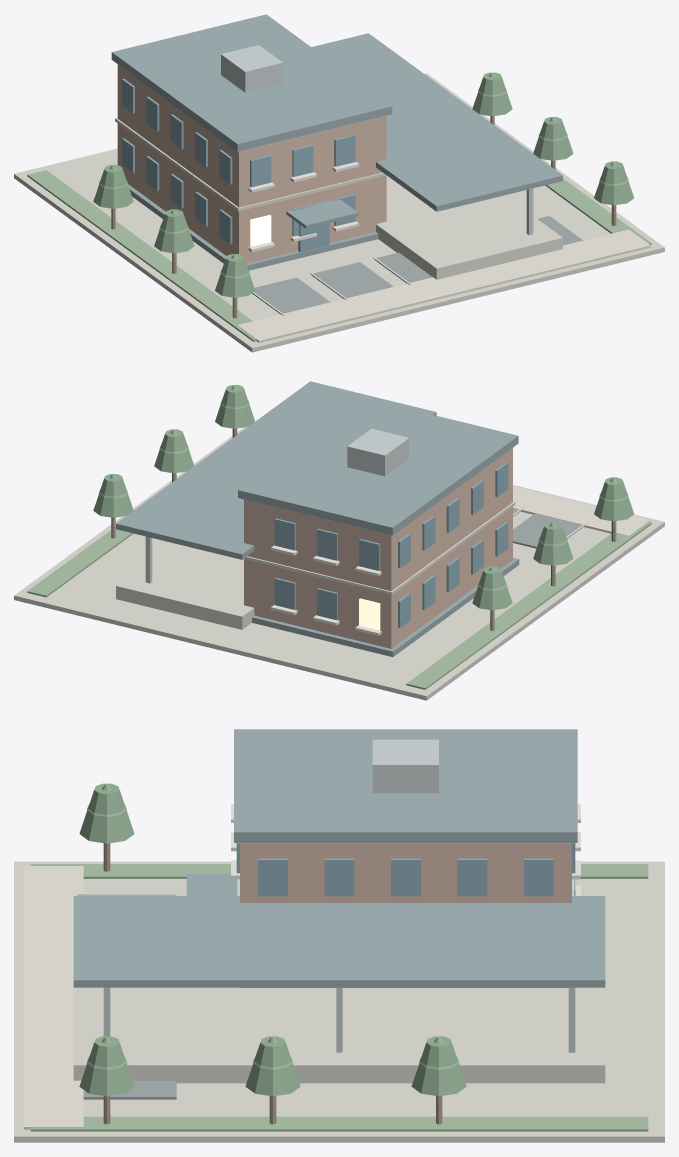
File: remaster_station.glb
3 renders of one model, top to bottom at view 1: azimuth 30°, elevation 25°; view 2: azimuth 150°, elevation 25°; view 3: azimuth 270°, elevation 25°, orthographic. The views are drawn at different scales.
Parts seen in each view (by area): view 1: remaster_station roof, remaster_station stone, remaster_station brick, remaster_station cream, remaster_station leaf, remaster_station glass, remaster_station green, remaster_station asphalt, remaster_station metal, remaster_station white, remaster_station warm, remaster_station bark; view 2: remaster_station roof, remaster_station stone, remaster_station brick, remaster_station leaf, remaster_station glass, remaster_station green, remaster_station metal, remaster_station cream, remaster_station asphalt, remaster_station white, remaster_station warm, remaster_station bark; view 3: remaster_station stone, remaster_station roof, remaster_station brick, remaster_station cream, remaster_station green, remaster_station leaf, remaster_station glass, remaster_station metal, remaster_station asphalt, remaster_station white, remaster_station bark.
Boxes of the visible parts, x1,y1,x2,y2 form: remaster_station roof: (111, 14, 562, 270); remaster_station stone: (14, 73, 664, 352); remaster_station brick: (117, 64, 386, 263); remaster_station cream: (237, 229, 650, 342); remaster_station leaf: (93, 72, 633, 297); remaster_station glass: (122, 79, 355, 252); remaster_station green: (27, 170, 651, 341); remaster_station asphalt: (252, 216, 582, 314); remaster_station metal: (221, 45, 533, 235); remaster_station white: (248, 162, 410, 315); remaster_station warm: (250, 215, 271, 246); remaster_station bark: (111, 116, 616, 318); remaster_station roof: (116, 381, 519, 656); remaster_station stone: (14, 427, 664, 700); remaster_station brick: (244, 448, 512, 648); remaster_station leaf: (93, 385, 633, 610); remaster_station glass: (274, 462, 508, 627); remaster_station green: (27, 522, 651, 689); remaster_station metal: (145, 428, 409, 583); remaster_station cream: (513, 486, 650, 535); remaster_station asphalt: (513, 508, 583, 548); remaster_station white: (271, 507, 587, 635); remaster_station warm: (359, 598, 380, 630); remaster_station bark: (111, 428, 616, 630); remaster_station stone: (14, 843, 664, 1142); remaster_station roof: (73, 729, 605, 987); remaster_station brick: (240, 843, 571, 987); remaster_station cream: (24, 866, 83, 1129); remaster_station green: (30, 864, 648, 1131); remaster_station leaf: (79, 783, 466, 1096); remaster_station glass: (236, 843, 575, 896); remaster_station metal: (103, 739, 575, 1052); remaster_station asphalt: (83, 1081, 176, 1099); remaster_station white: (77, 804, 580, 895); remaster_station bark: (103, 843, 442, 1124).
Size of the model in its own units: 19.65 by 7 by 19.6.
